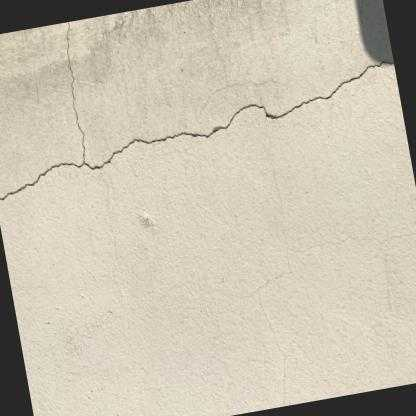crack: (0, 22, 394, 201)
